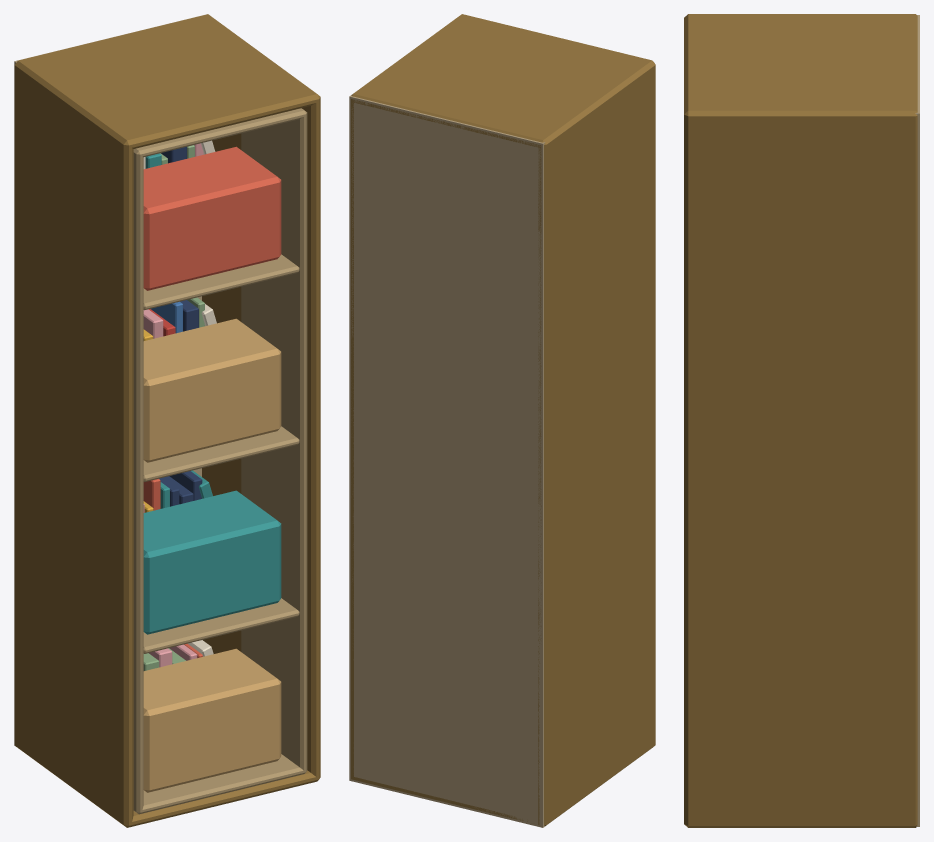
File: expanding_shelf.glb
3 views of the same model, side by side, from view 1: azimuth 30°, elevation 25°; view 2: azimuth 150°, elevation 25°; view 3: azimuth 270°, elevation 25° (orthographic). The views are drawn at different scales.
Visible parts, largest first — view 1: expanding_shelf_Body, expanding_shelf_Inner; view 2: expanding_shelf_Body; view 3: expanding_shelf_Body.
Part boxes in pixels (<box>): expanding_shelf_Body: <box>14,14,320,827</box>; expanding_shelf_Inner: <box>133,108,307,814</box>; expanding_shelf_Body: <box>349,14,655,827</box>; expanding_shelf_Body: <box>684,14,919,827</box>.
Bounding box in the file's own units: 0.6 × 2 × 0.596.
